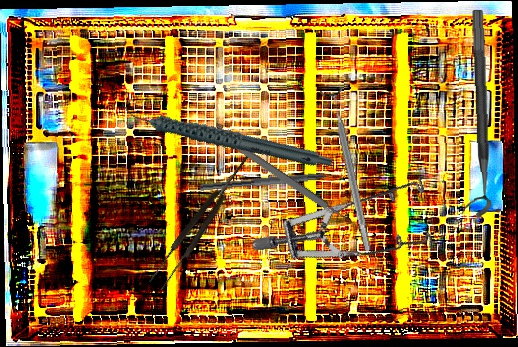Chopper: (198, 168, 352, 201)
Fixation Ring: (317, 86, 381, 254), (453, 10, 493, 219)
Handpiece: (117, 62, 335, 210)
Speculum: (248, 125, 457, 313)
Surgical Spoon: (229, 138, 369, 238)
Tissue Forceps: (146, 141, 264, 292)
